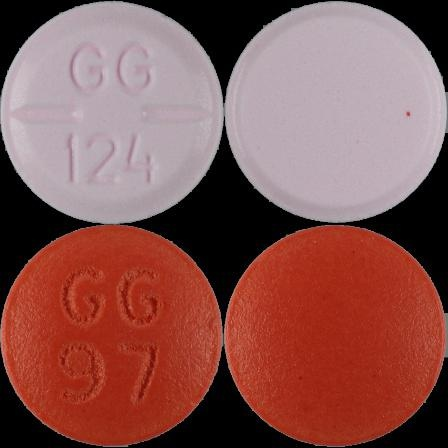0781-1393: (0, 0, 224, 224)
